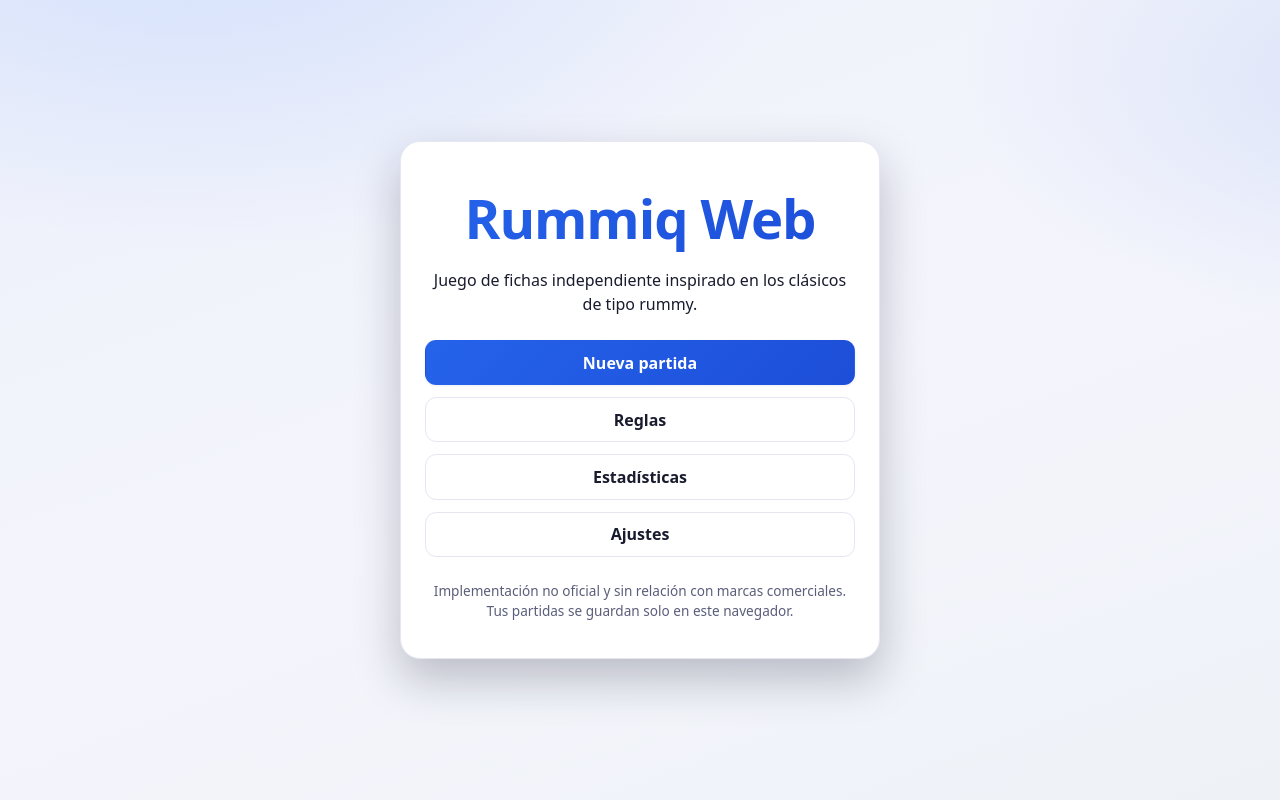
Test: Pantalla de ajustes › borra todos los datos tras confirmar
The width and height of the screenshot is (1280, 800).
Click the button "Ajustes" at (640, 534), box top-left (425, 512), bottom-right (855, 557)
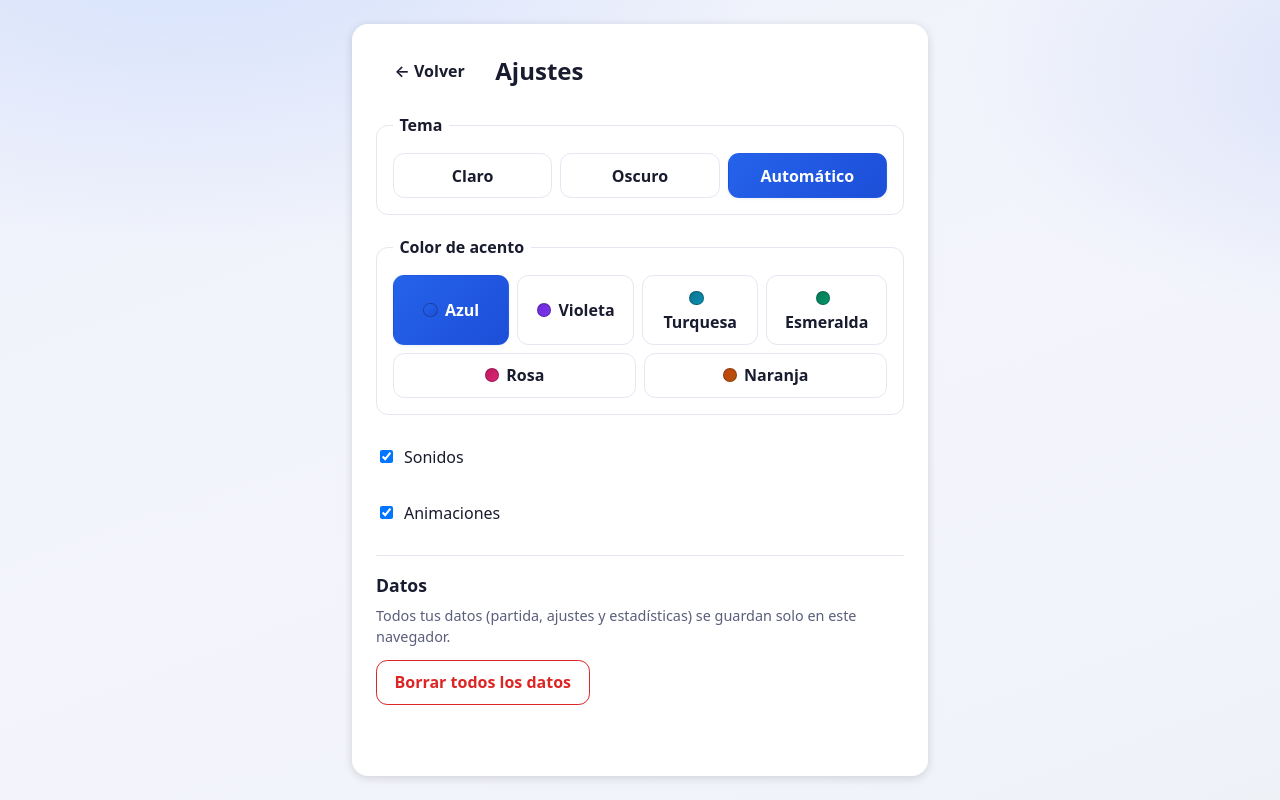
Click the button "Borrar todos los datos" at (483, 682), box top-left (376, 660), bottom-right (590, 705)
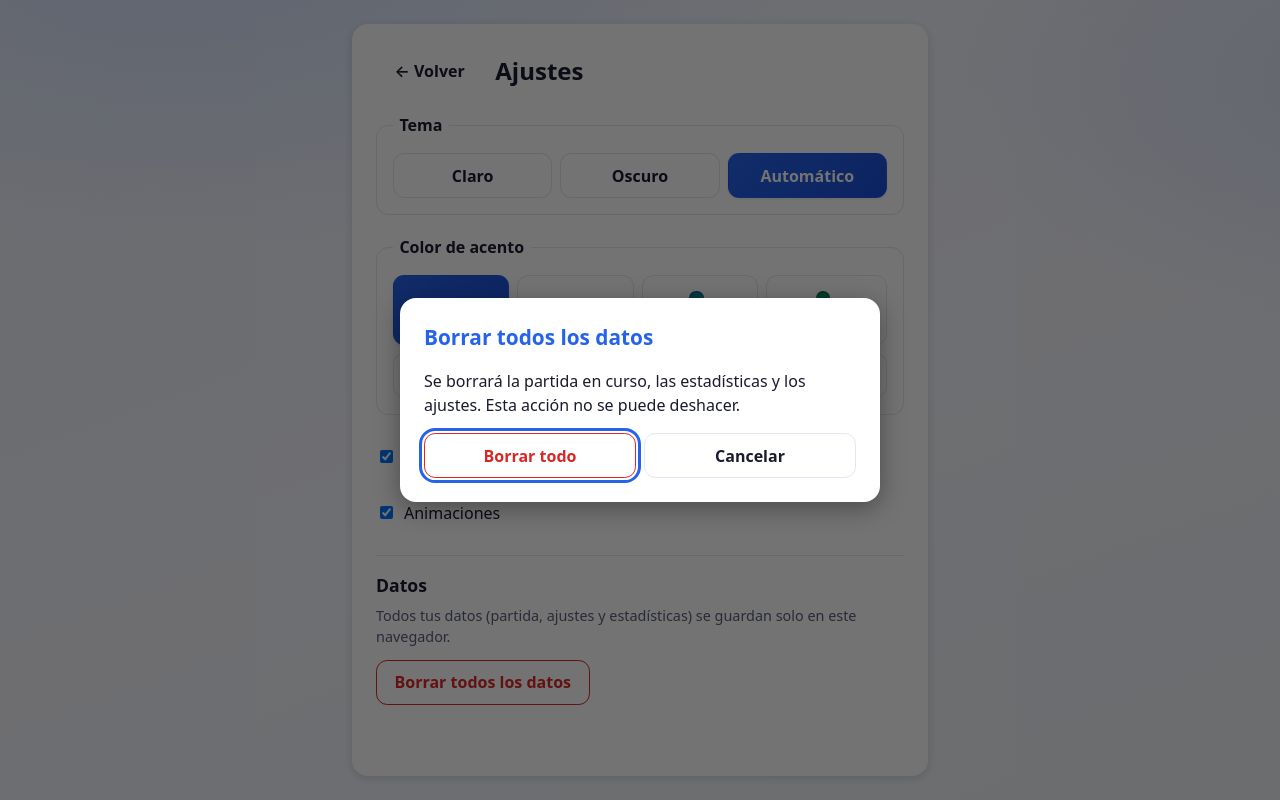
Now the dialog shows "no se puede deshacer", box top-left (424, 370), bottom-right (806, 416)
Click the button "Borrar todo" at (530, 456), box top-left (424, 433), bottom-right (636, 478)
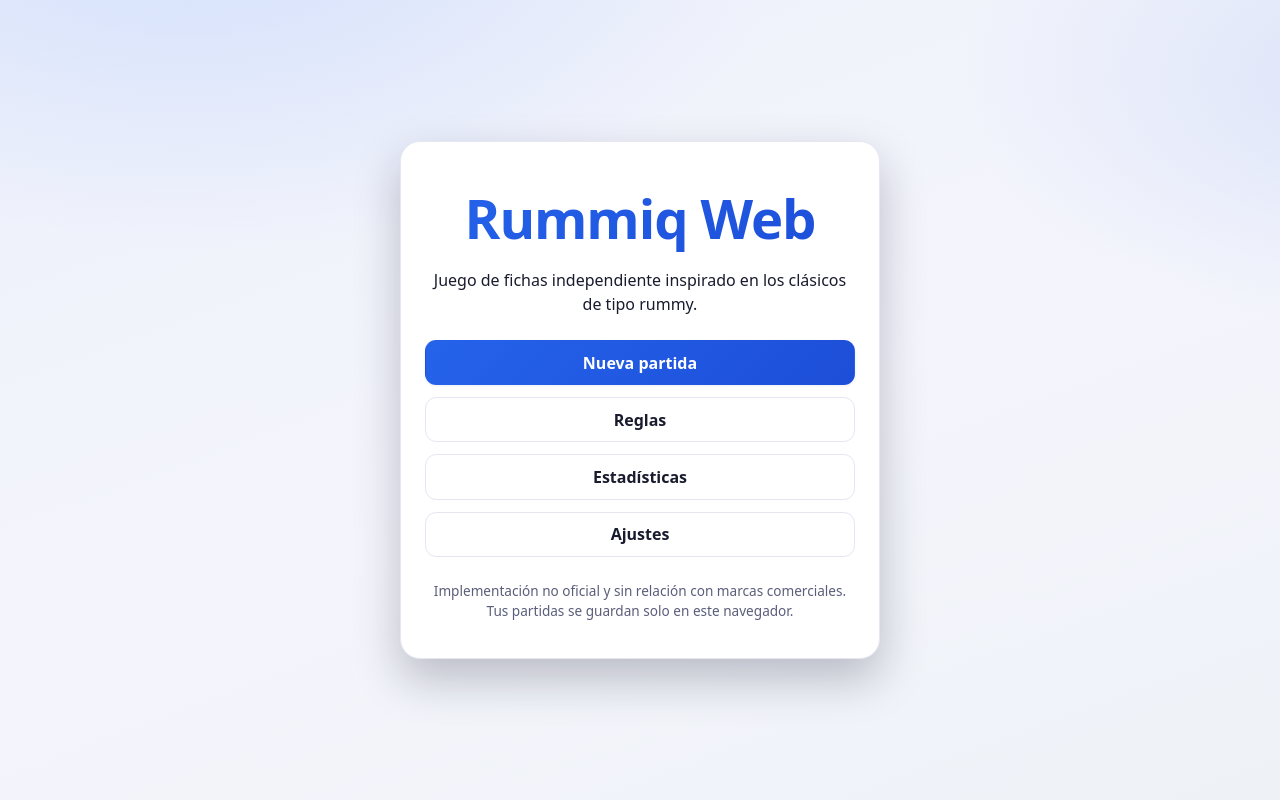
Now the heading "Rummiq Web" is shown, box top-left (425, 178), bottom-right (855, 260)
